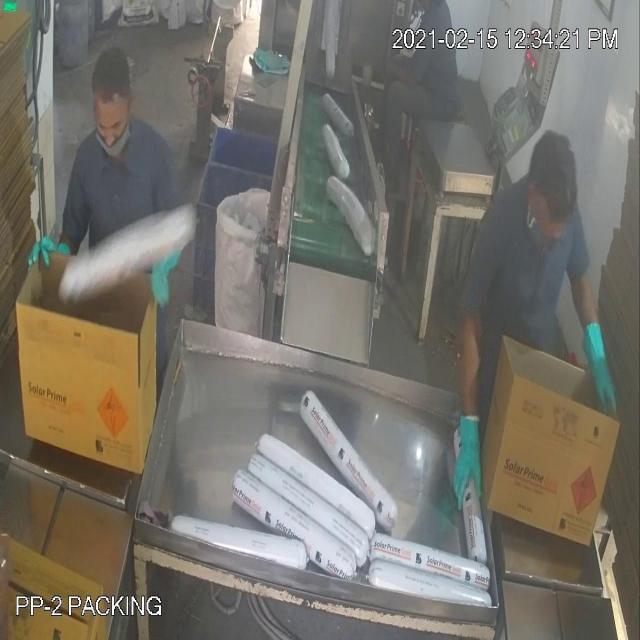Gloves: (40, 31, 599, 466)
